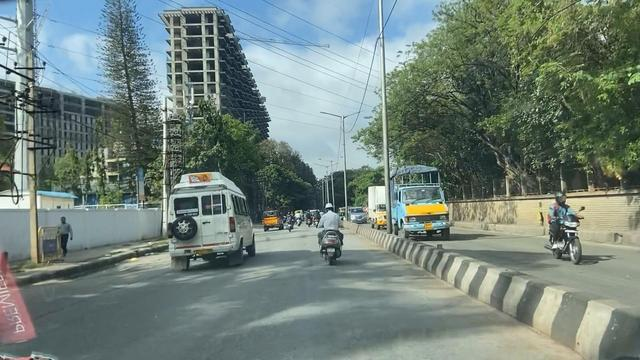HMV: (173, 168, 257, 262)
LMV: (317, 204, 342, 261)
